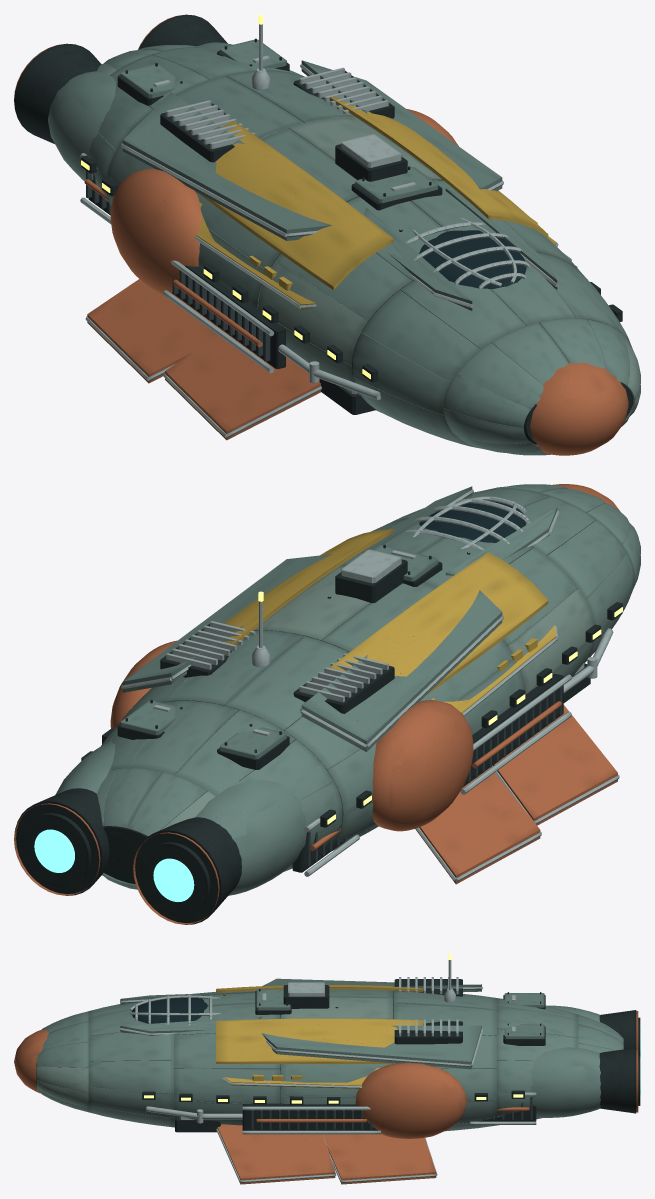
3 renders of one model, top to bottom at view 1: azimuth 30°, elevation 25°; view 2: azimuth 150°, elevation 25°; view 3: azimuth 270°, elevation 25°, orthographic. The views are drawn at different scales.
Parts seen in each view (by area): view 1: HullPlates, StructuralFins, GoldHullFields, Systems, DriveAssemblies, Pods, NoseShield, RecessedEquipment, HardpointCovers, Glazing, CanopyFrames, WindowFrames (+1 smaller); view 2: HullPlates, StructuralFins, DriveAssemblies, GoldHullFields, Systems, Pods, RecessedEquipment, HardpointCovers, CanopyFrames, PressureHull, Glazing, WindowFrames; view 3: HullPlates, StructuralFins, DriveAssemblies, GoldHullFields, Pods, Systems, RecessedEquipment, HardpointCovers, Glazing, NoseShield, CanopyFrames, WindowFrames.
Boxes of the visible parts, x1,y1,x2,y2 form: HullPlates: [88, 45, 640, 455]; StructuralFins: [85, 60, 559, 440]; GoldHullFields: [196, 97, 548, 289]; Systems: [117, 24, 537, 400]; DriveAssemblies: [14, 14, 232, 181]; Pods: [110, 109, 458, 298]; NoseShield: [530, 362, 628, 455]; RecessedEquipment: [80, 153, 571, 373]; HardpointCovers: [319, 134, 407, 414]; Glazing: [419, 230, 526, 289]; CanopyFrames: [405, 218, 530, 289]; WindowFrames: [81, 155, 622, 382]; HullPlates: [97, 484, 640, 889]; StructuralFins: [121, 486, 619, 884]; DriveAssemblies: [14, 741, 306, 924]; GoldHullFields: [224, 529, 548, 694]; Systems: [117, 545, 613, 769]; Pods: [110, 640, 473, 831]; RecessedEquipment: [292, 674, 571, 876]; HardpointCovers: [335, 549, 590, 702]; CanopyFrames: [405, 496, 530, 550]; PressureHull: [103, 510, 595, 884]; Glazing: [419, 501, 525, 542]; WindowFrames: [81, 602, 622, 827]; HullPlates: [36, 989, 623, 1131]; StructuralFins: [120, 978, 483, 1184]; DriveAssemblies: [530, 1005, 640, 1117]; GoldHullFields: [216, 985, 423, 1063]; Pods: [355, 1063, 466, 1138]; Systems: [146, 960, 545, 1123]; RecessedEquipment: [242, 1092, 536, 1134]; HardpointCovers: [175, 982, 329, 1132]; Glazing: [132, 998, 208, 1023]; NoseShield: [14, 1029, 48, 1093]; CanopyFrames: [130, 994, 220, 1025]; WindowFrames: [142, 1090, 524, 1104].
Size of the model in its own units: 3.02 by 1.9 by 6.4.
1 material, 1 textured.
